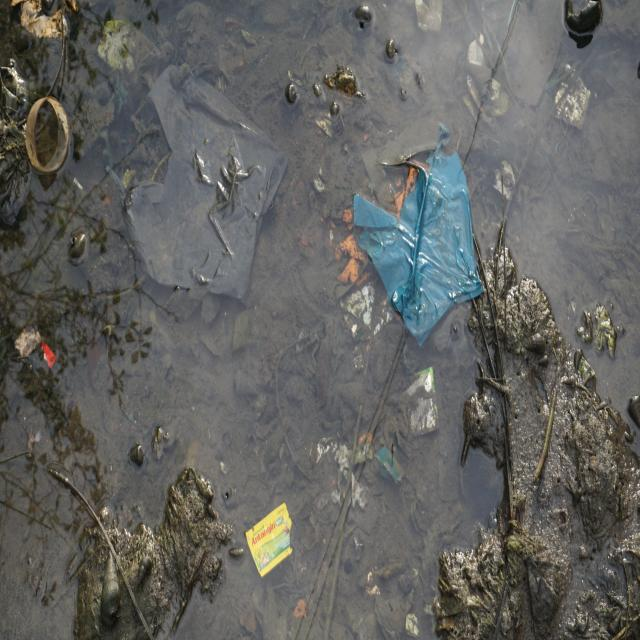Bungkus Minuman: (245, 500, 296, 580)
Kantong Plastik: (120, 69, 288, 310), (351, 145, 486, 343)
